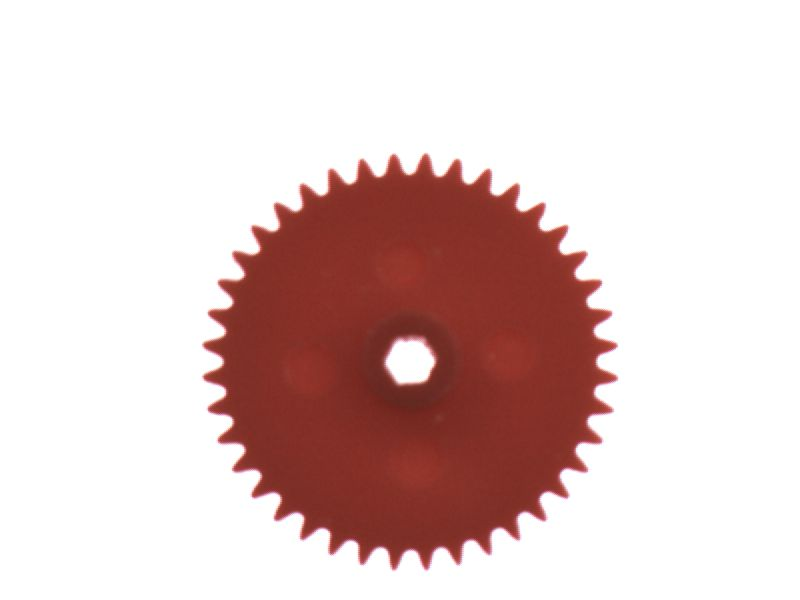good_product: (189, 143, 630, 578)
